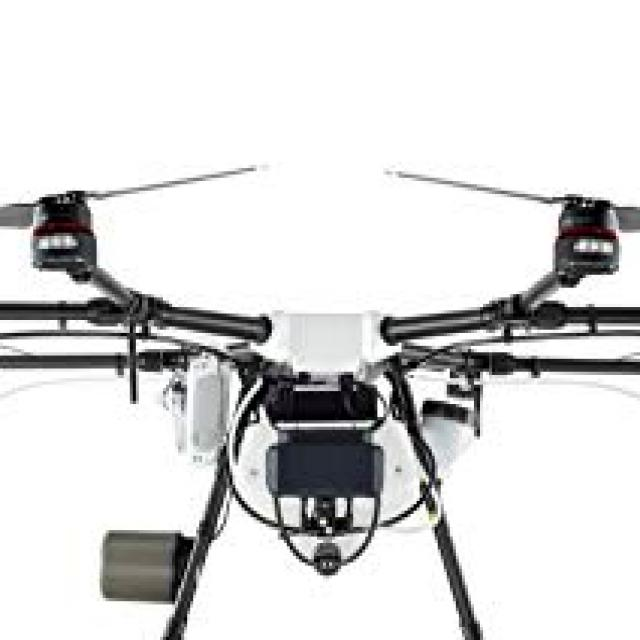drone: (0, 148, 640, 634)
